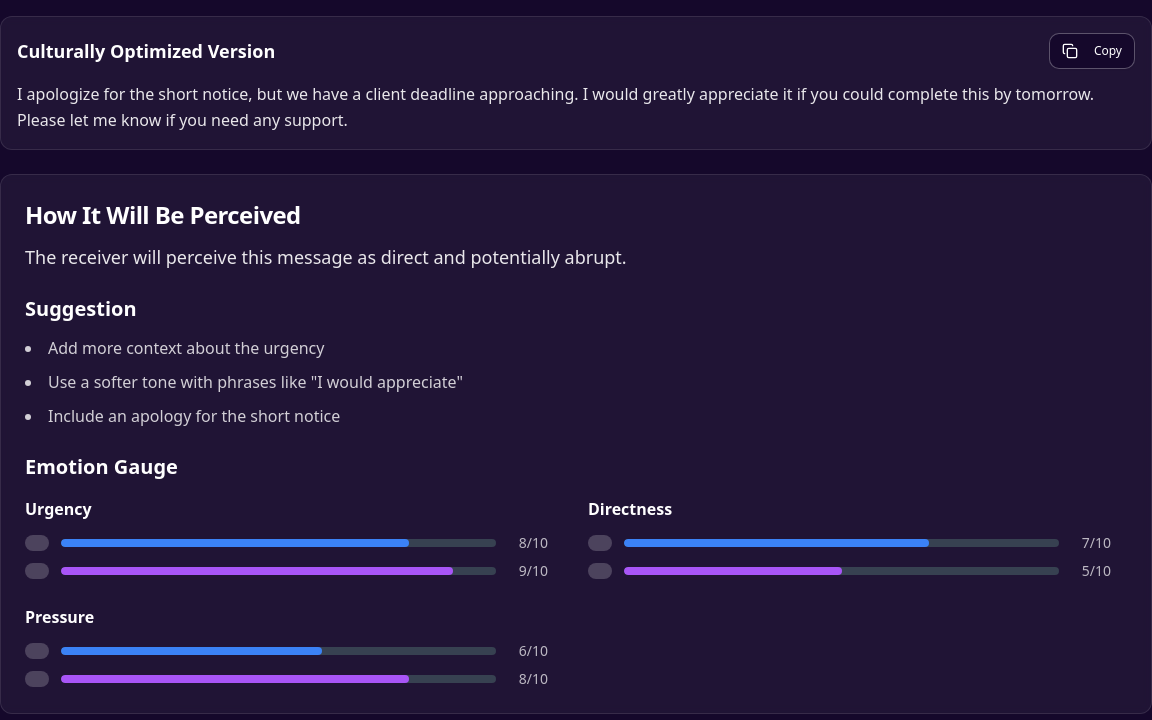
Test: OutboundResult Component › should change copy button text to "Copied!" after successful copy
The image size is (1152, 720).
Click the button with aria-label "copy optimized message to clipboard" at [1092, 51], box 1049,33 -> 1135,69
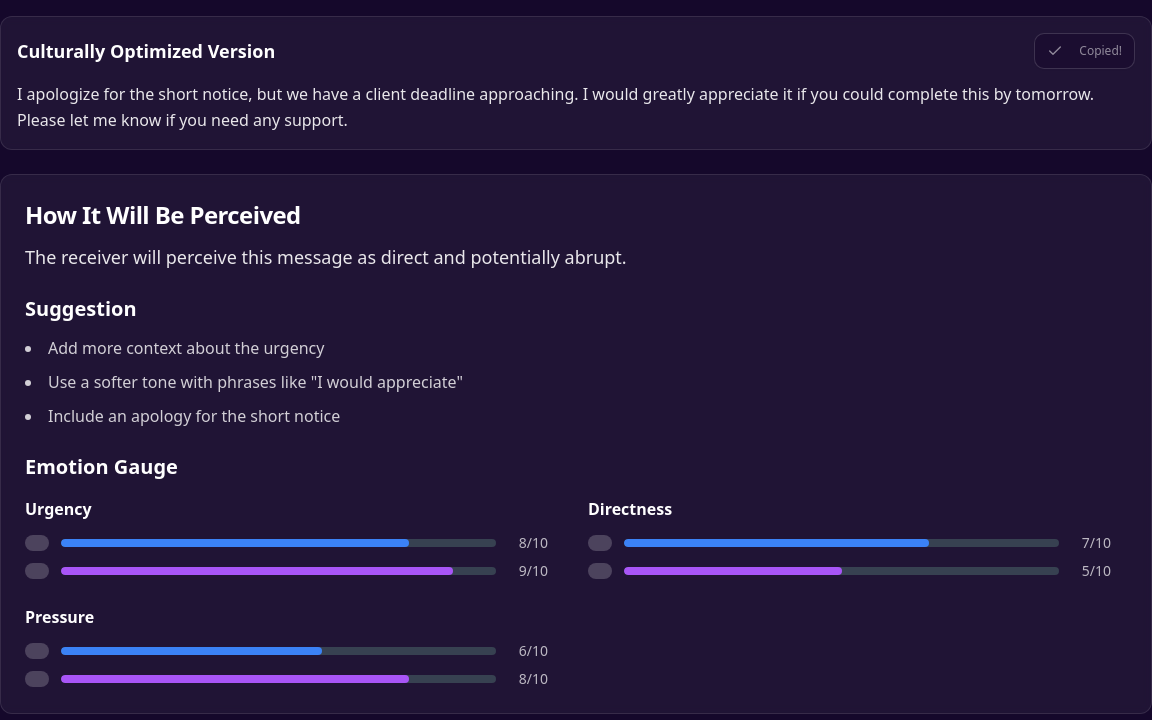
Result: the button "Copied!" is shown at 1034,33 -> 1135,69
